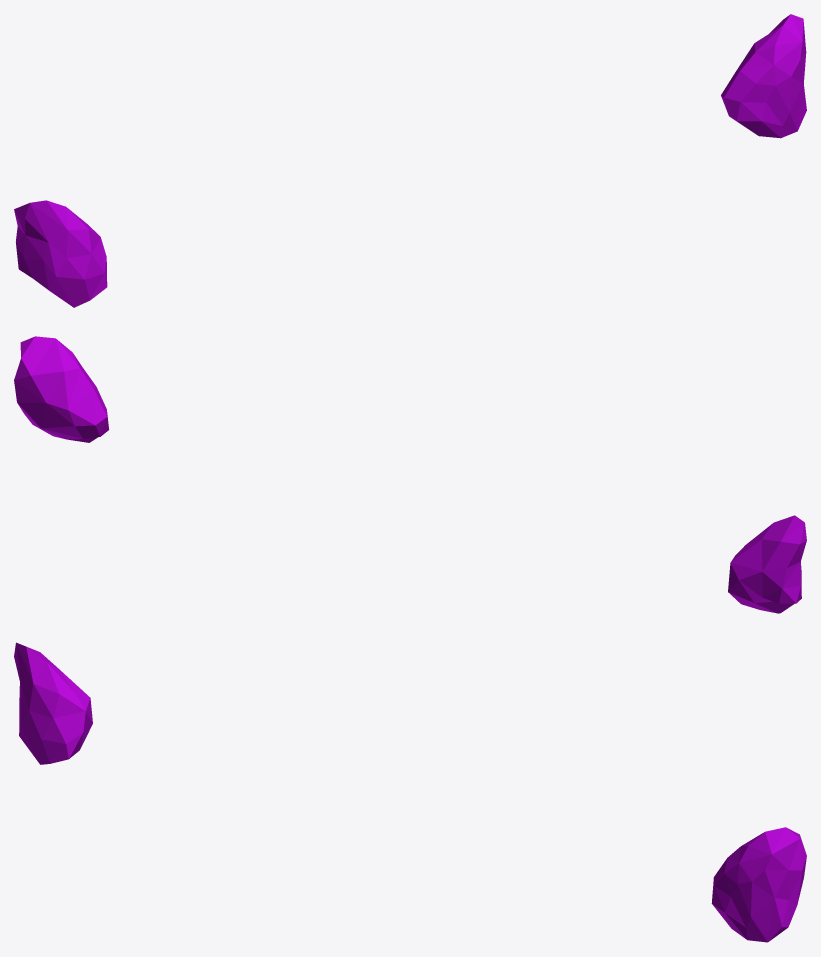
Rendered from 189-BSTIA-bed nucleus of the stria terminalis intraamygdaloid division-('0.8431', '0.0000', '1.0000').obj.
3 views of the same model, one above another, from view 1: azimuth 30°, elevation 25°; view 2: azimuth 150°, elevation 25°; view 3: azimuth 330°, elevation 25° (orthographic).
Bounding box in the file's own units: 131 × 17.44 × 9.62.
